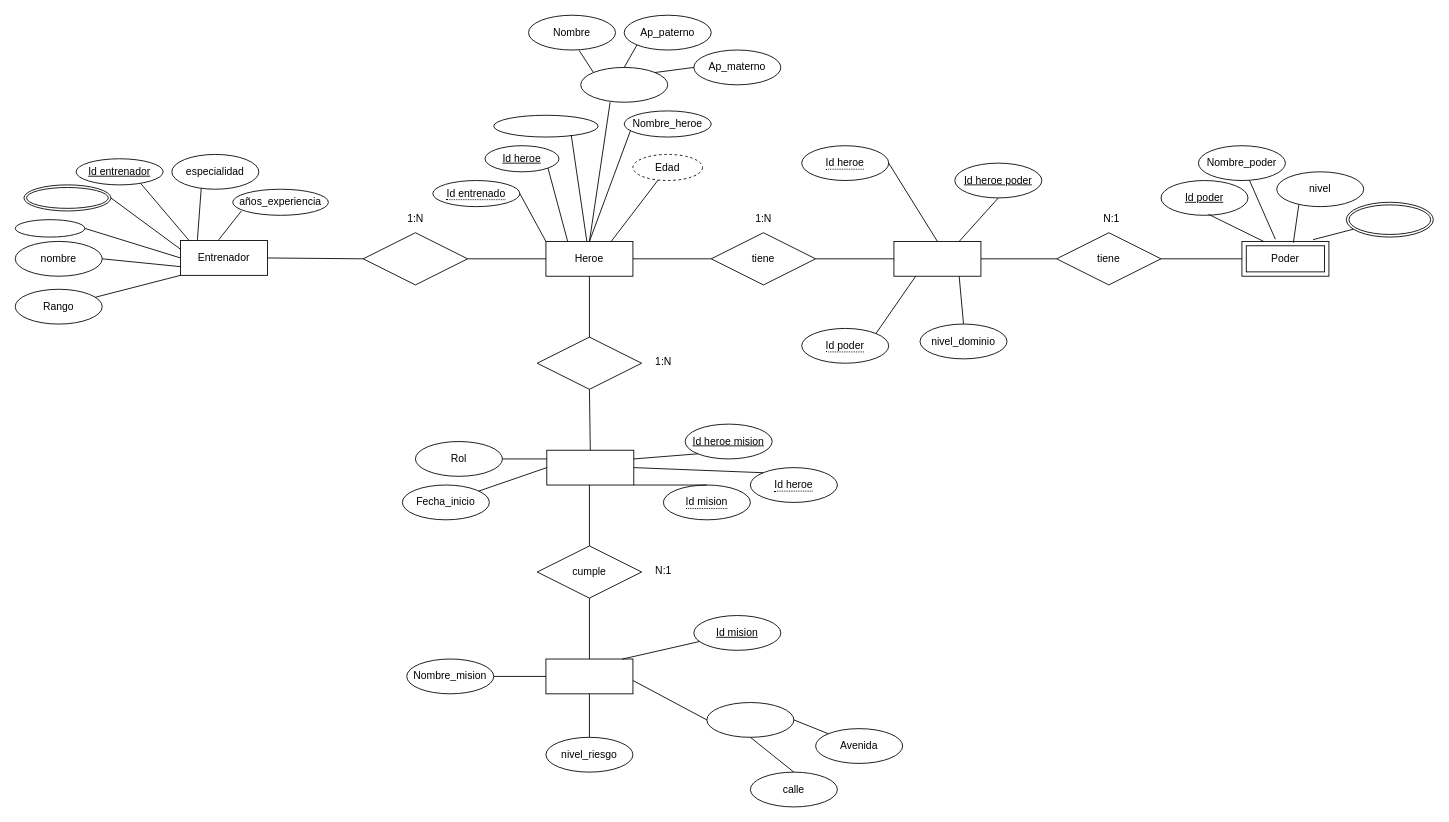
This 1449x822 diagram has some shape labels left out. The shapes that lost their labels are listed below. From the top down, each one's box as (x1, y1, x2, y2) in pixels, then its label:
(580, 67, 668, 102): Nombre_real
(493, 114, 598, 137): Fecha_nacimiento
(23, 184, 111, 211): telefono
(14, 219, 85, 237): Estado
(1345, 201, 1433, 237): tipo_poder
(362, 232, 468, 285): responsable
(893, 241, 981, 276): Heroe_Poder
(536, 336, 642, 389): cumole
(546, 449, 634, 485): Heroe_Mision
(545, 658, 633, 694): Mision
(706, 702, 794, 737): ubicacion
